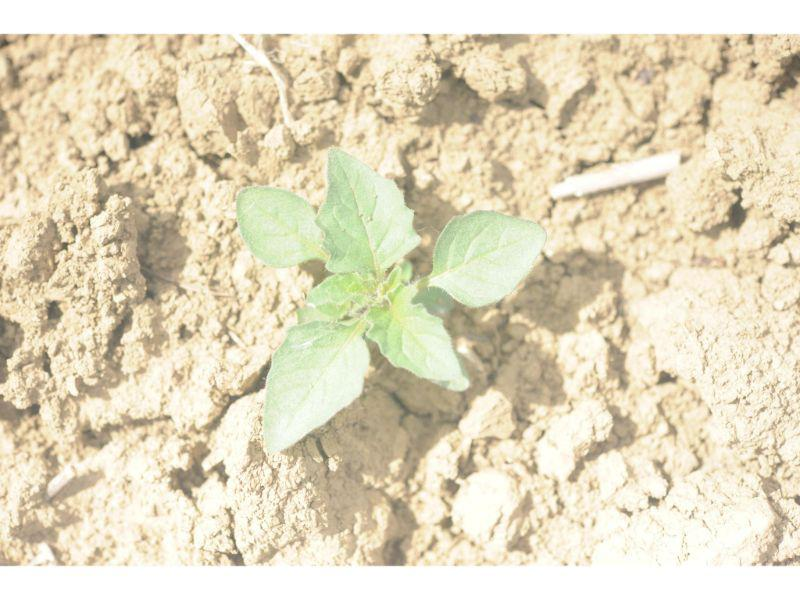nightshade: (236, 144, 545, 455)
